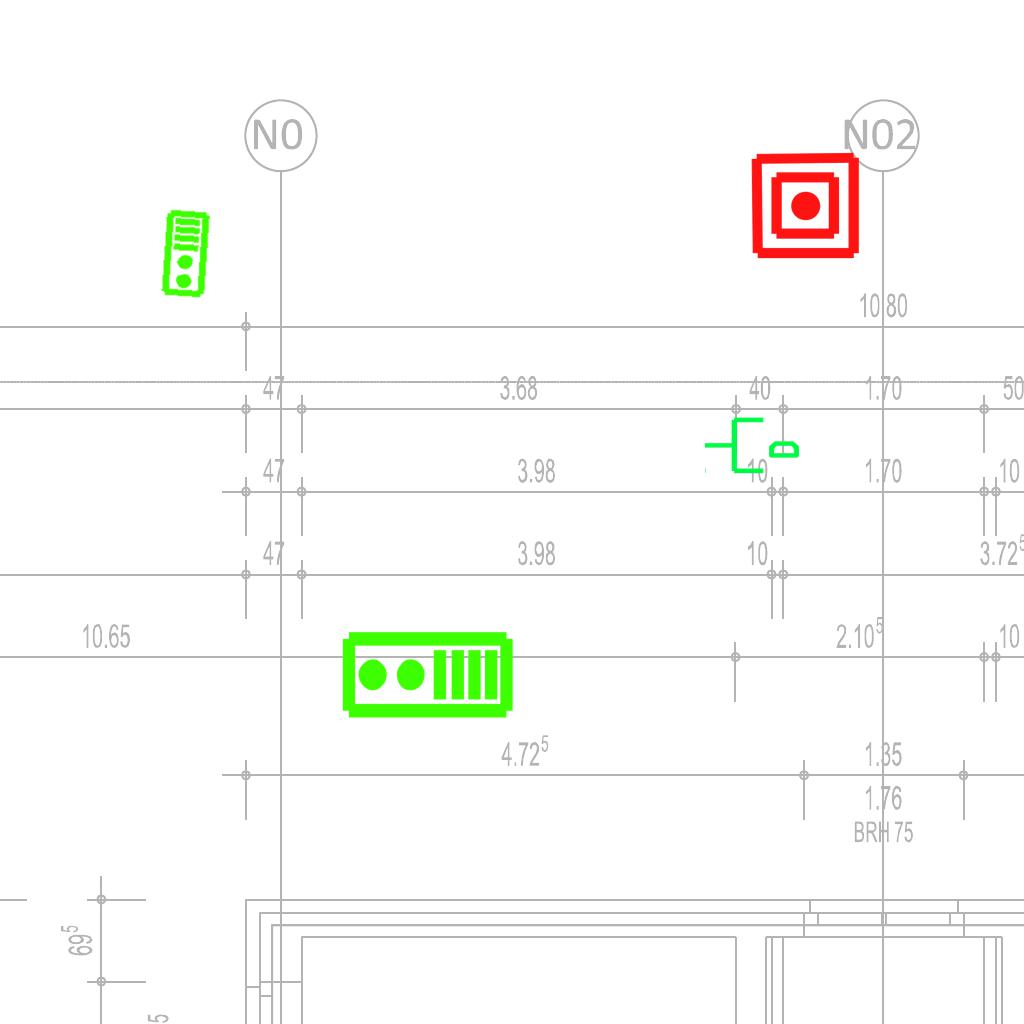Datenanschluss_einfach: (702, 409, 802, 478)
Gegensprechanlage_mit_Video: (339, 629, 515, 724), (159, 208, 214, 300)
NAM-Nichtautomatischer_Melder: (749, 149, 862, 262)
